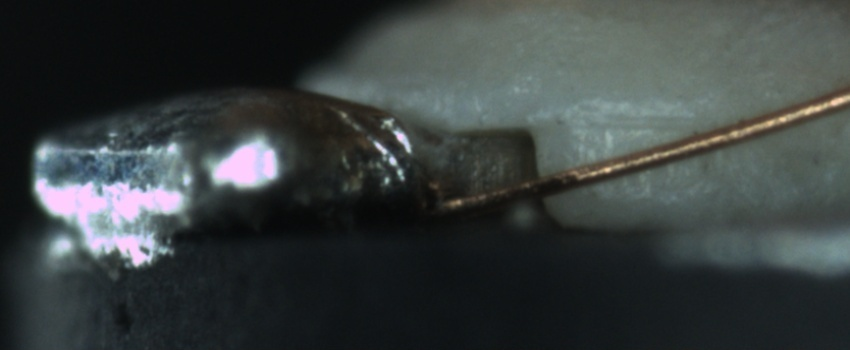DL: (562, 90, 711, 150)
